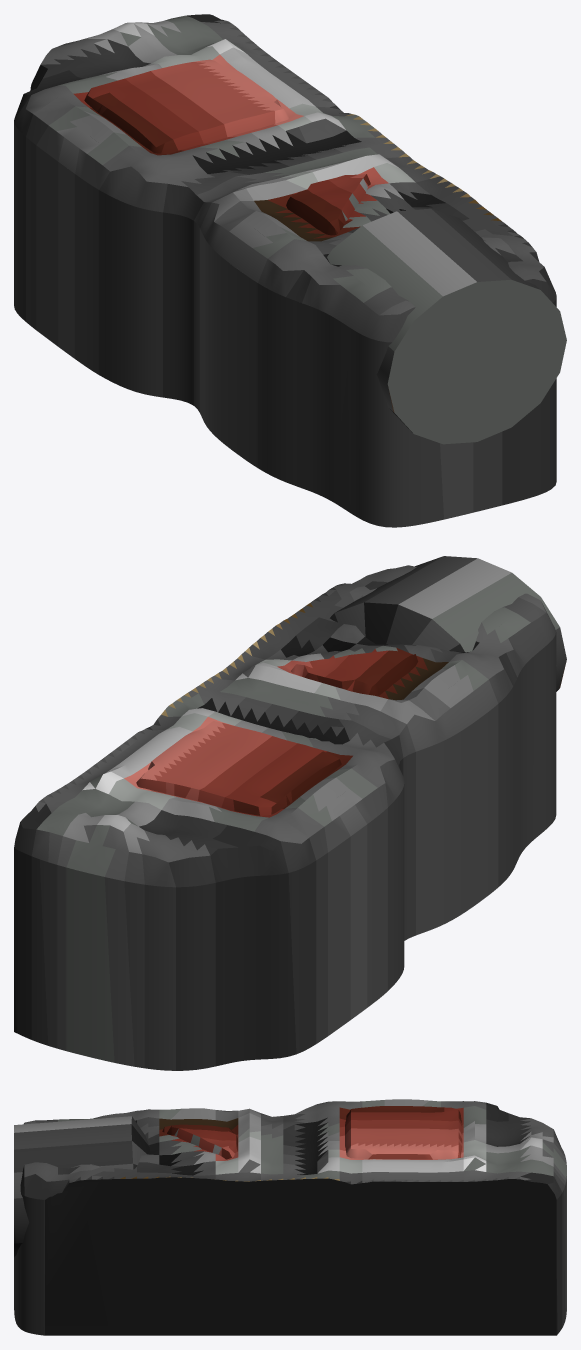
File: tusk_boss_86.glb
3 renders of one model, top to bottom at view 1: azimuth 30°, elevation 25°; view 2: azimuth 150°, elevation 25°; view 3: azimuth 270°, elevation 25°, orthographic. The views are drawn at different scales.
Parts seen in each view (by area): view 1: tusk_boss_86_plates; view 2: tusk_boss_86_plates; view 3: tusk_boss_86_plates.
Boxes of the visible parts, x1,y1,x2,y2 form: tusk_boss_86_plates: (14,14,566,527); tusk_boss_86_plates: (14,556,566,1070); tusk_boss_86_plates: (14,1099,566,1335).
Bounding box in the file's own units: 10 × 9.53 × 26.99.
